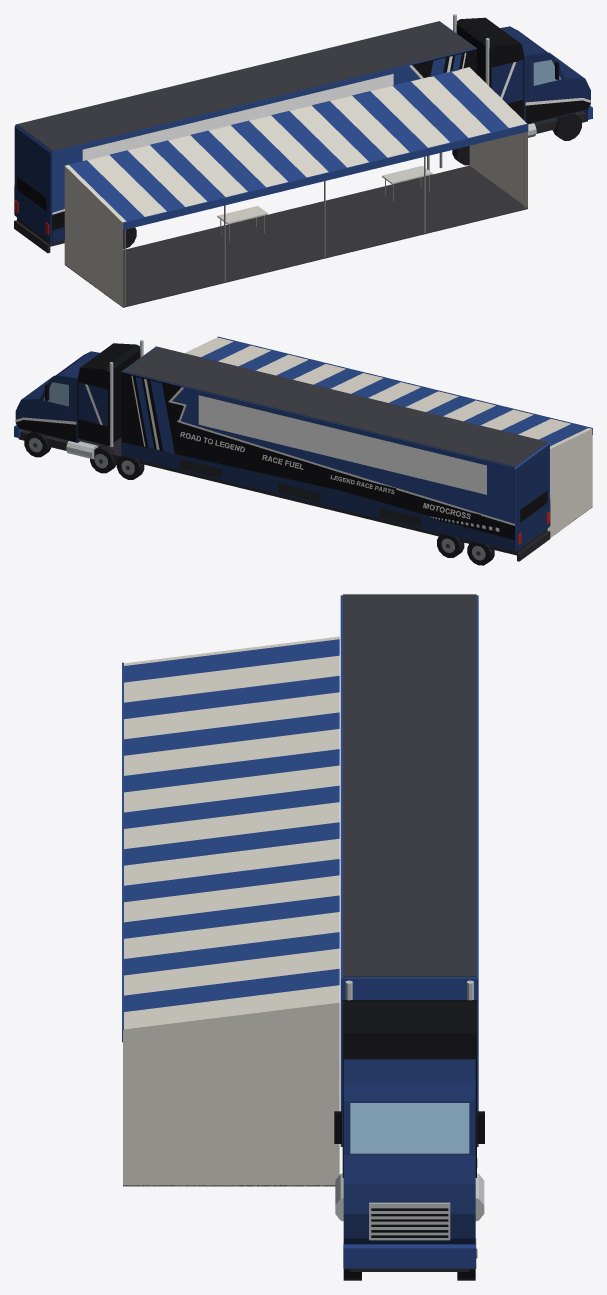
The model's file is hauler.glb.
The picture shows the model from 3 angles, top to bottom: view 1: azimuth 30°, elevation 25°; view 2: azimuth 150°, elevation 25°; view 3: azimuth 270°, elevation 25°; orthographic projection. The views are drawn at different scales.
Parts seen in each view (by area): view 1: Awning, Body, BikesOut; view 2: Body, Awning; view 3: Awning, Body.
Part boxes in pixels (left/top/right/bottom): Awning: left=64, top=67, right=528, bottom=307; Body: left=14, top=14, right=592, bottom=253; BikesOut: left=217, top=165, right=432, bottom=241; Body: left=14, top=340, right=550, bottom=565; Awning: left=184, top=336, right=592, bottom=537; Awning: left=122, top=636, right=339, bottom=1186; Body: left=334, top=594, right=484, bottom=1280.
Bounding box in the file's own units: 21.51 × 4.55 × 6.7.
Materials: 19 (1 with a texture image).
